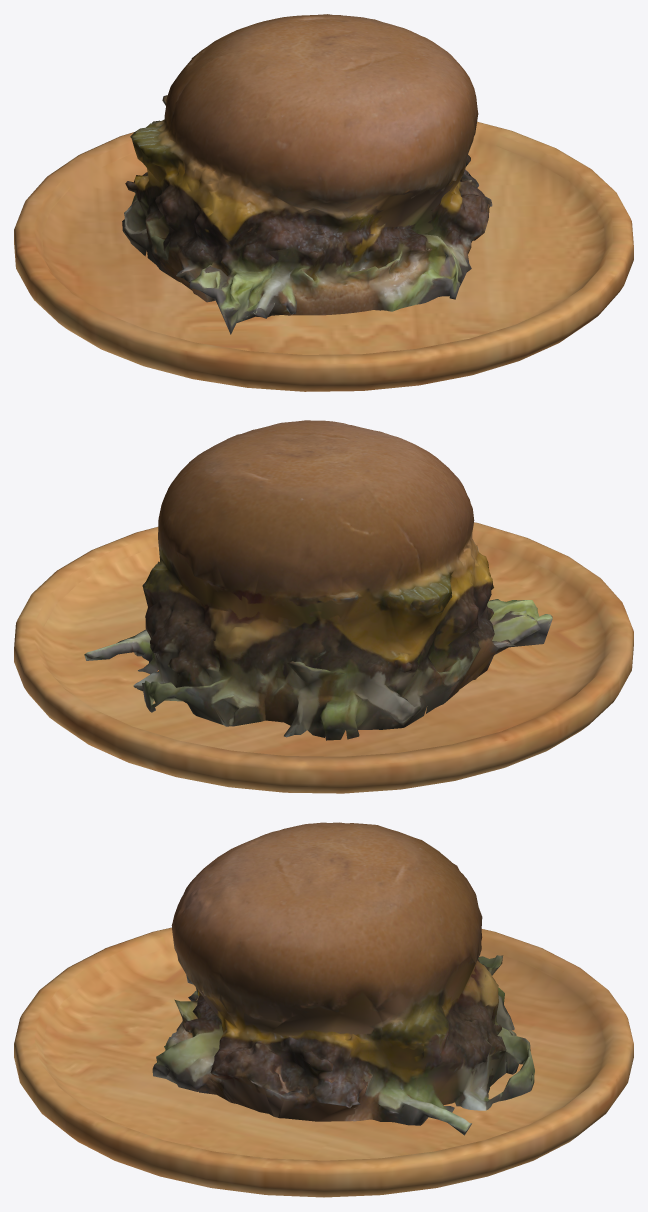
File: tipoMequi.glb
The picture shows the model from 3 angles, top to bottom: view 1: azimuth 30°, elevation 25°; view 2: azimuth 150°, elevation 25°; view 3: azimuth 270°, elevation 25°; orthographic projection.
Visible parts, largest first — view 1: Mesh_0_Part_0.001, Object_2; view 2: Mesh_0_Part_0.001, Object_2; view 3: Mesh_0_Part_0.001, Object_2.
Boxes of the visible parts, x1,y1,x2,y2 form: Mesh_0_Part_0.001: (122,14,492,334); Object_2: (14,121,633,391); Mesh_0_Part_0.001: (84,420,552,740); Object_2: (14,522,633,793); Mesh_0_Part_0.001: (152,822,534,1135); Object_2: (14,927,633,1197).
Size of the model in its own units: 59.93 by 23.63 by 59.93.
2 materials, 2 textured.
